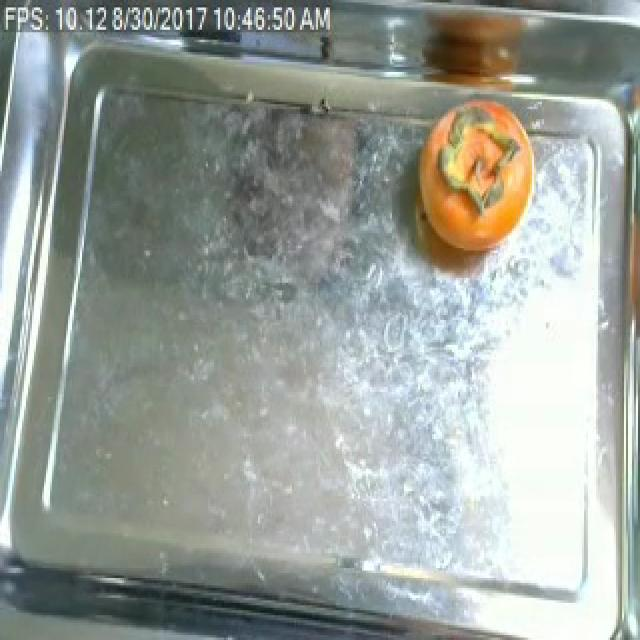Fruit: (414, 97, 534, 280)
